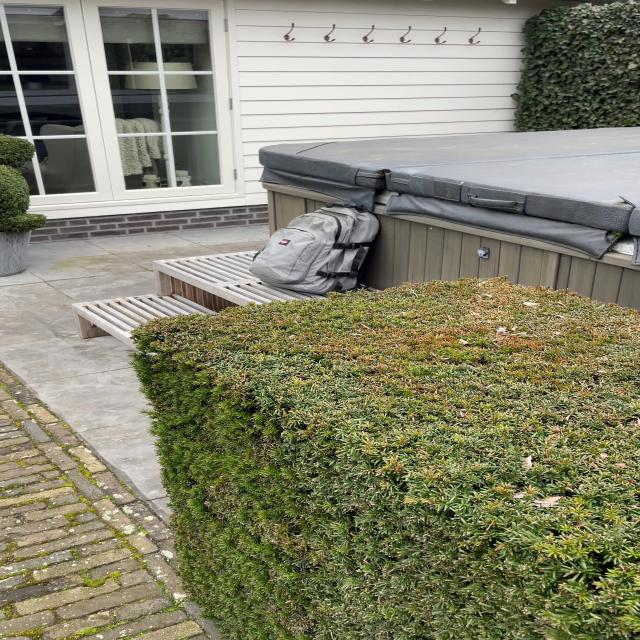backpack: (245, 199, 388, 299)
